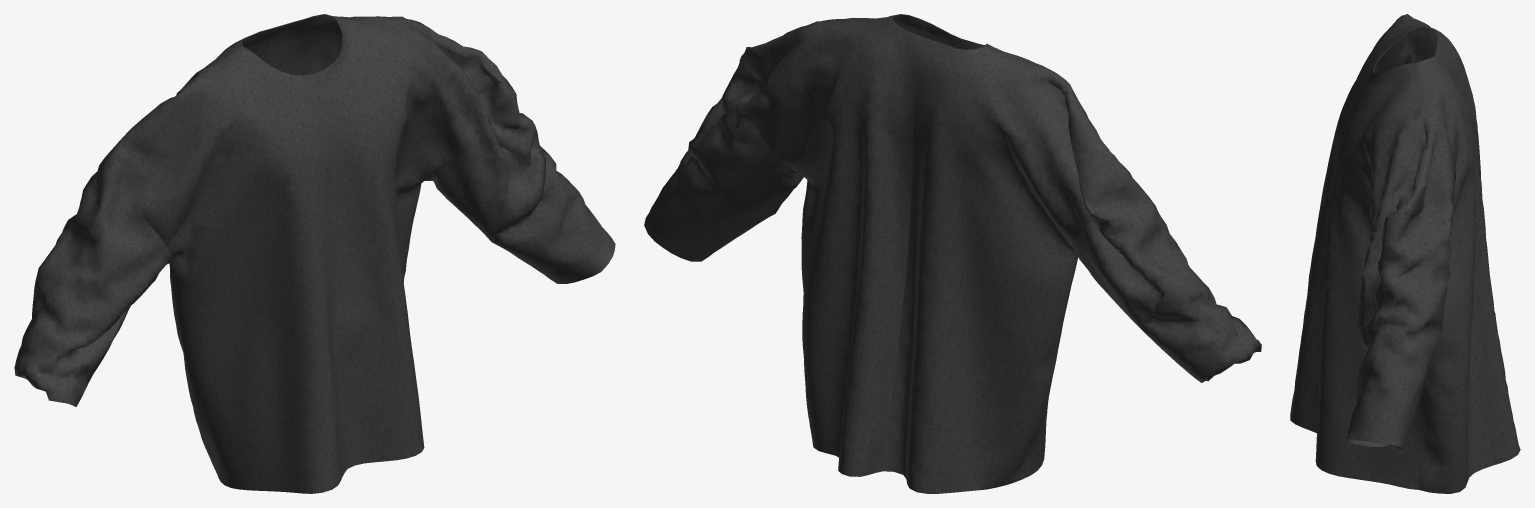
The model's file is FLG_110004.fbx.
3 renders of one model, left to right at view 1: azimuth 30°, elevation 25°; view 2: azimuth 150°, elevation 25°; view 3: azimuth 270°, elevation 25°, orthographic. The views are drawn at different scales.
Visible parts, largest first — view 1: FLG_110004; view 2: FLG_110004; view 3: FLG_110004.
Part boxes in pixels (x1,y1,x2,y2): FLG_110004: [14, 14, 615, 493]; FLG_110004: [644, 14, 1261, 493]; FLG_110004: [1290, 14, 1520, 493].
Bounding box in the file's own units: 121 × 84.03 × 42.5.
